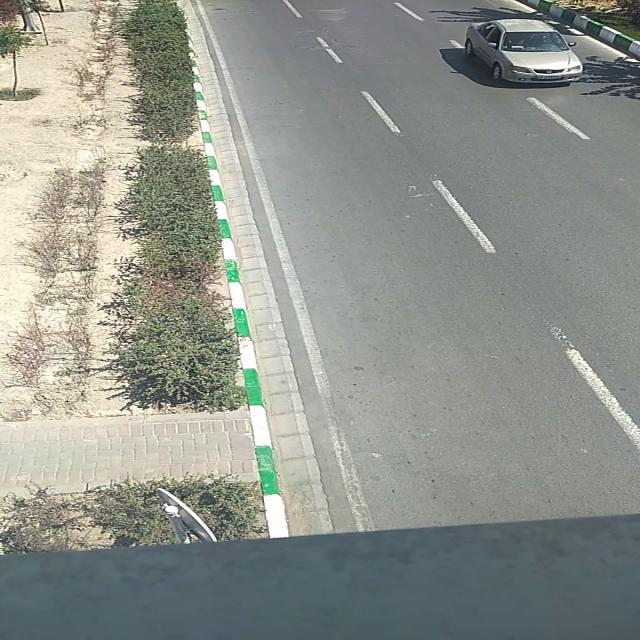car: (464, 18, 583, 86)
